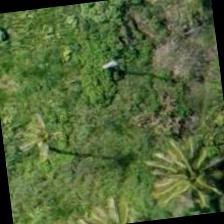Kelapa_Sawit: (143, 128, 223, 221)
